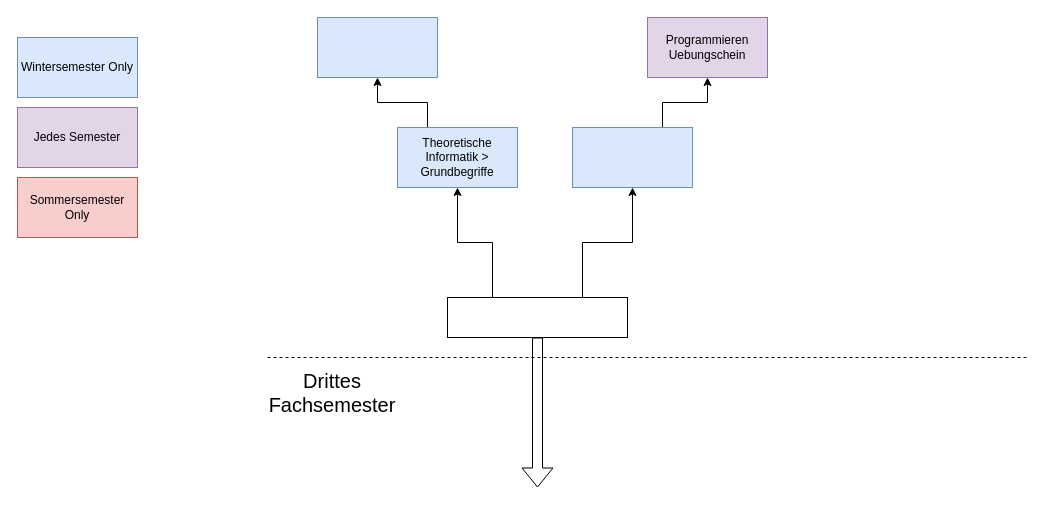
This 1046x505 diagram has some shape labels left out. Each missing label, with the box of its shape:
Grundbegriffe Uebungschein: (316, 16, 438, 78)
Orientierungspruefung: (446, 296, 628, 338)
Praktische Informatik > Programmieren: (572, 126, 692, 188)
